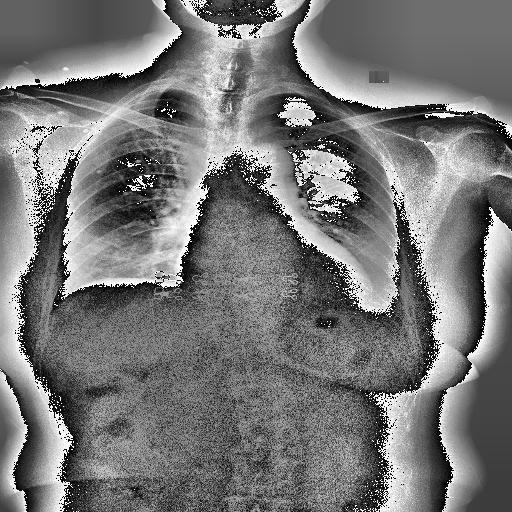0- Aortic enlargement: (240, 142, 300, 200), (230, 142, 296, 190), (251, 142, 299, 192)
11- Pleural thickening: (130, 88, 178, 102)
3- Cardiomegaly: (172, 244, 376, 310), (173, 257, 373, 319), (174, 251, 378, 310)
